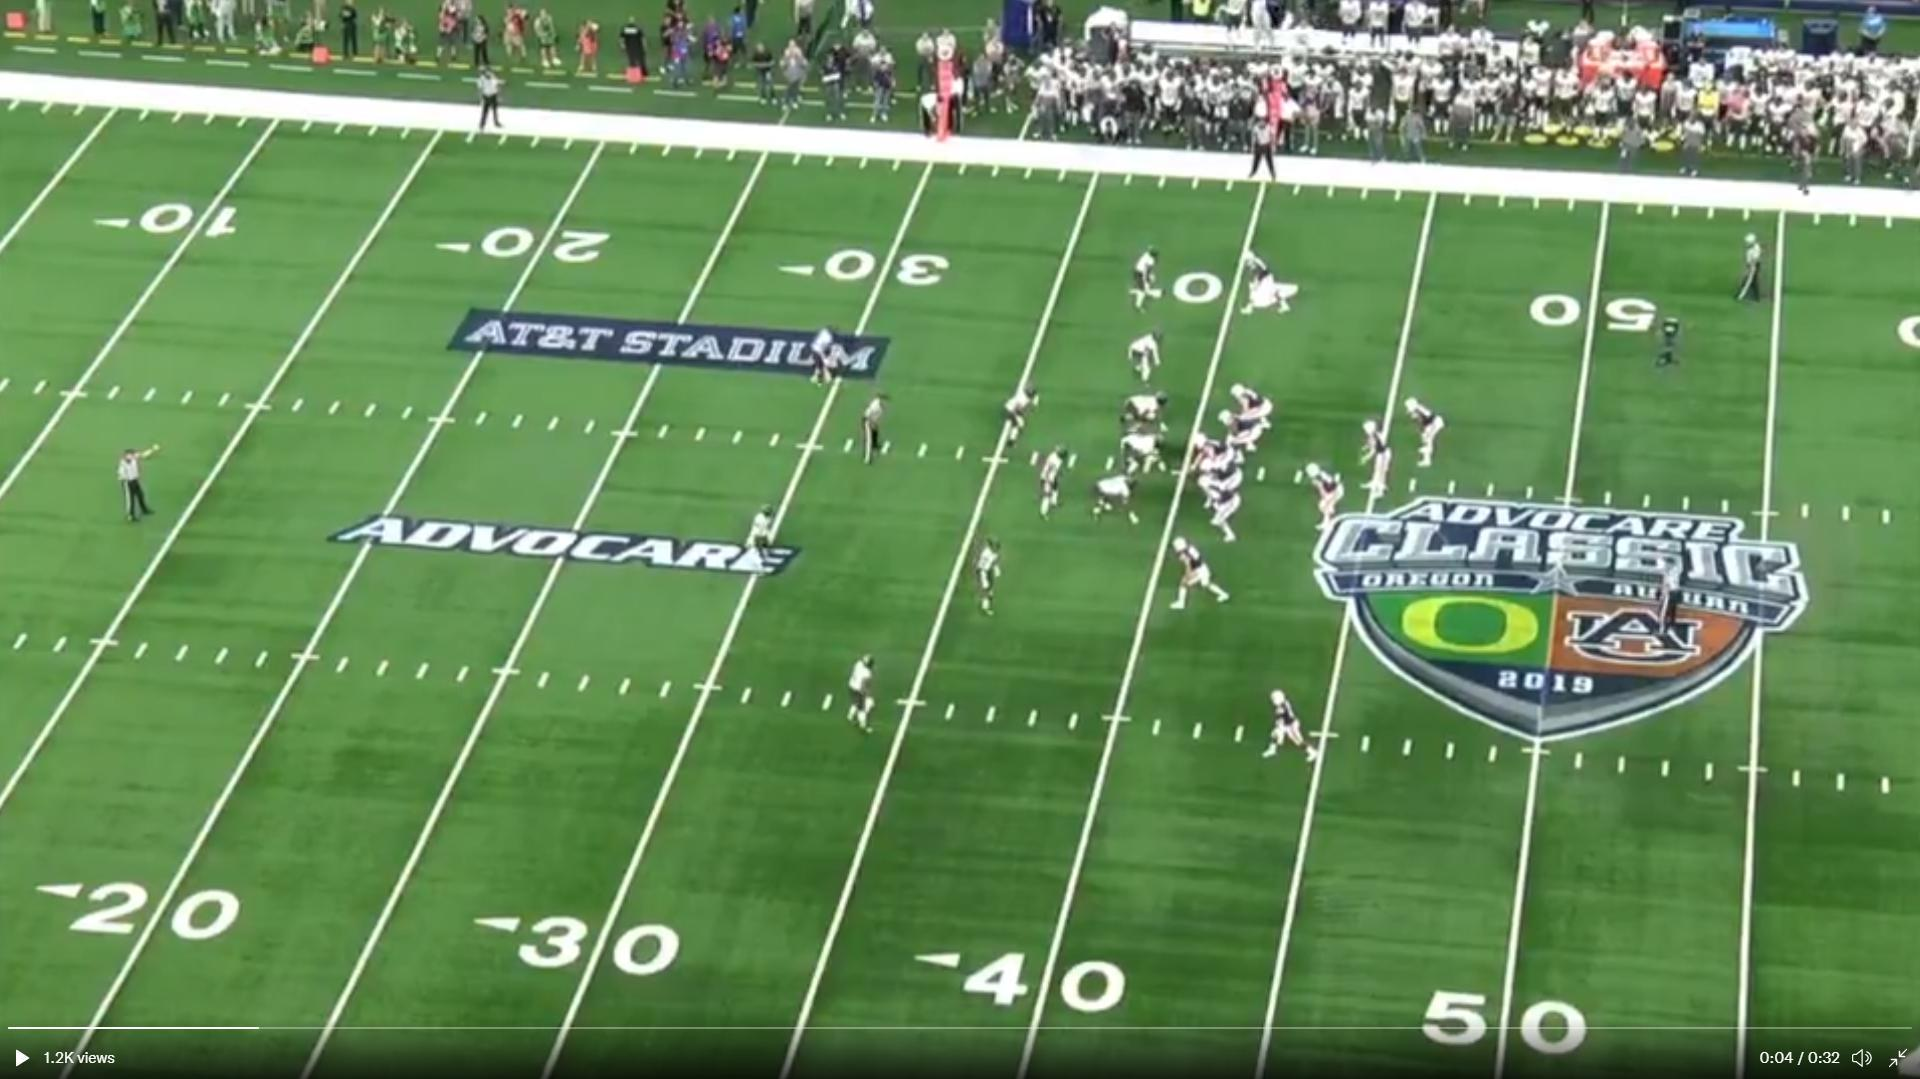defense: (1085, 474, 1142, 530), (1035, 447, 1076, 524), (845, 654, 881, 740), (1000, 383, 1040, 455), (1114, 429, 1171, 480), (803, 319, 845, 388), (969, 539, 1004, 617), (1131, 245, 1168, 314), (1127, 330, 1167, 392), (744, 507, 778, 574), (1122, 389, 1170, 437)
oline: (1196, 474, 1242, 543), (1224, 406, 1269, 466), (1233, 381, 1279, 438), (1199, 458, 1246, 512), (1184, 430, 1222, 487)
qb: (1360, 417, 1395, 513)
ref: (117, 443, 157, 528), (1739, 230, 1775, 310), (856, 390, 889, 471), (476, 67, 510, 139), (1246, 116, 1282, 185)
skill: (1166, 537, 1233, 617), (1261, 683, 1323, 768), (1240, 244, 1294, 322), (1300, 459, 1346, 537), (1402, 393, 1443, 471)
